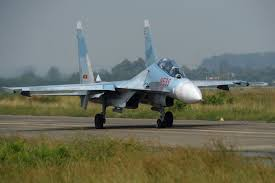maybay_muctieu: (12, 32, 265, 130)
